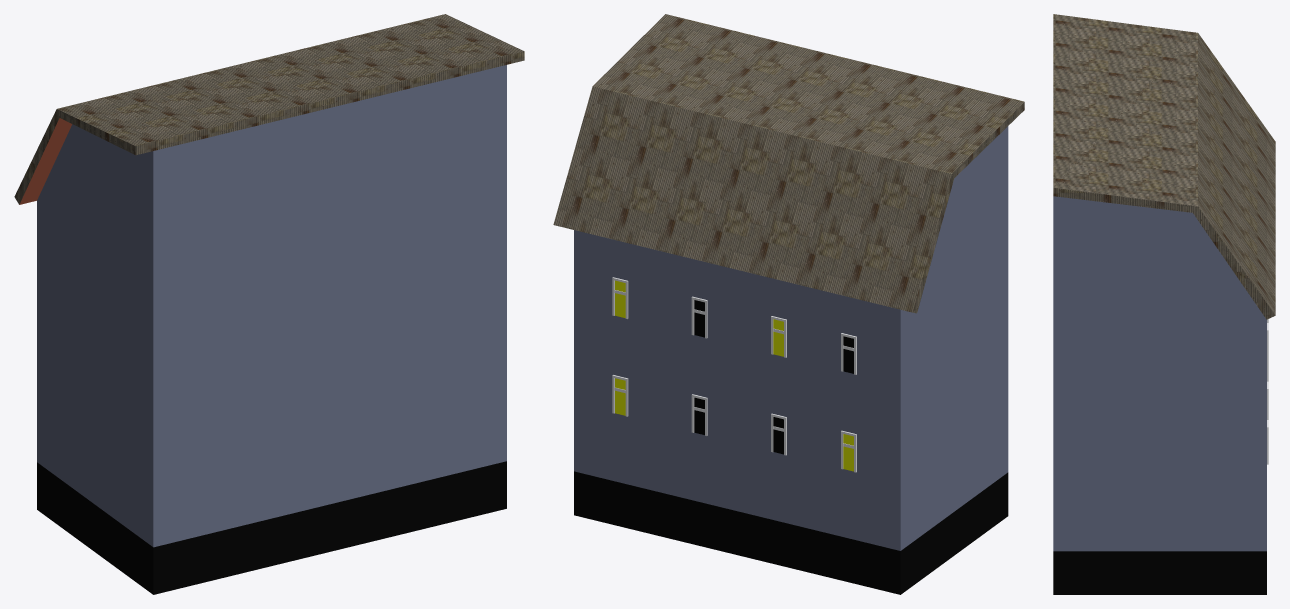
File: BuildingFacade1.fbx
3 views of the same model, side by side, from view 1: azimuth 30°, elevation 25°; view 2: azimuth 150°, elevation 25°; view 3: azimuth 270°, elevation 25° (orthographic). The views are drawn at different scales.
Parts seen in each view (by area): view 1: block_0, roof_barn_1; view 2: block_0, roof_barn_1, door_3, door_4, door_10, door_9, door_7, door_8, door_5, door_6; view 3: block_0, roof_barn_1.
Part boxes in pixels (box(x1,y1,x2,y2)): block_0: box(37, 191, 506, 594); roof_barn_1: box(14, 14, 524, 277); block_0: box(574, 223, 1008, 594); roof_barn_1: box(553, 14, 1024, 313); door_3: box(612, 277, 628, 319); door_4: box(691, 296, 707, 338); door_10: box(612, 375, 628, 416); door_9: box(691, 394, 707, 435); door_7: box(841, 430, 856, 472); door_8: box(771, 413, 786, 455); door_5: box(771, 316, 786, 357); door_6: box(841, 333, 856, 374); block_0: box(1053, 304, 1266, 594); roof_barn_1: box(1053, 14, 1275, 319).
Size of the model in its own units: 77 by 85.74 by 41.66.
Materials: 6 (1 with a texture image).
